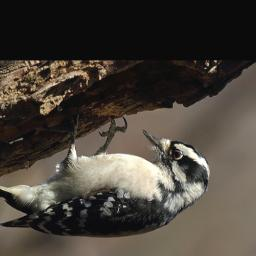Woodpecker: (0, 116, 209, 238)
